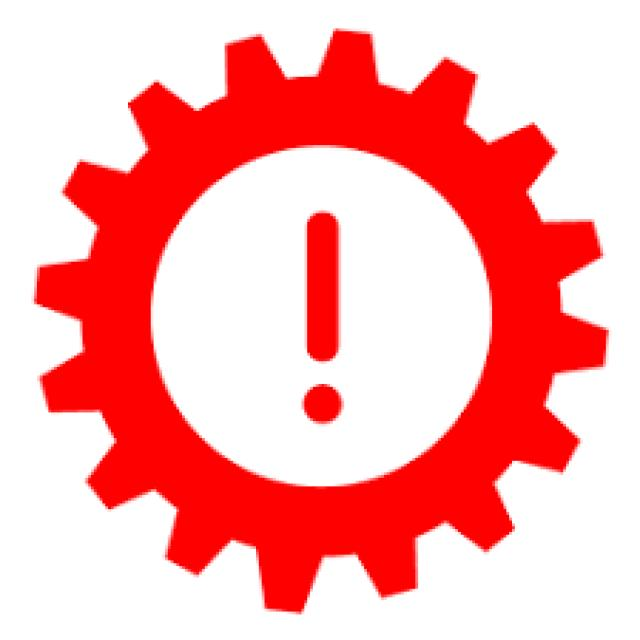kontrolka: (19, 16, 630, 617)
